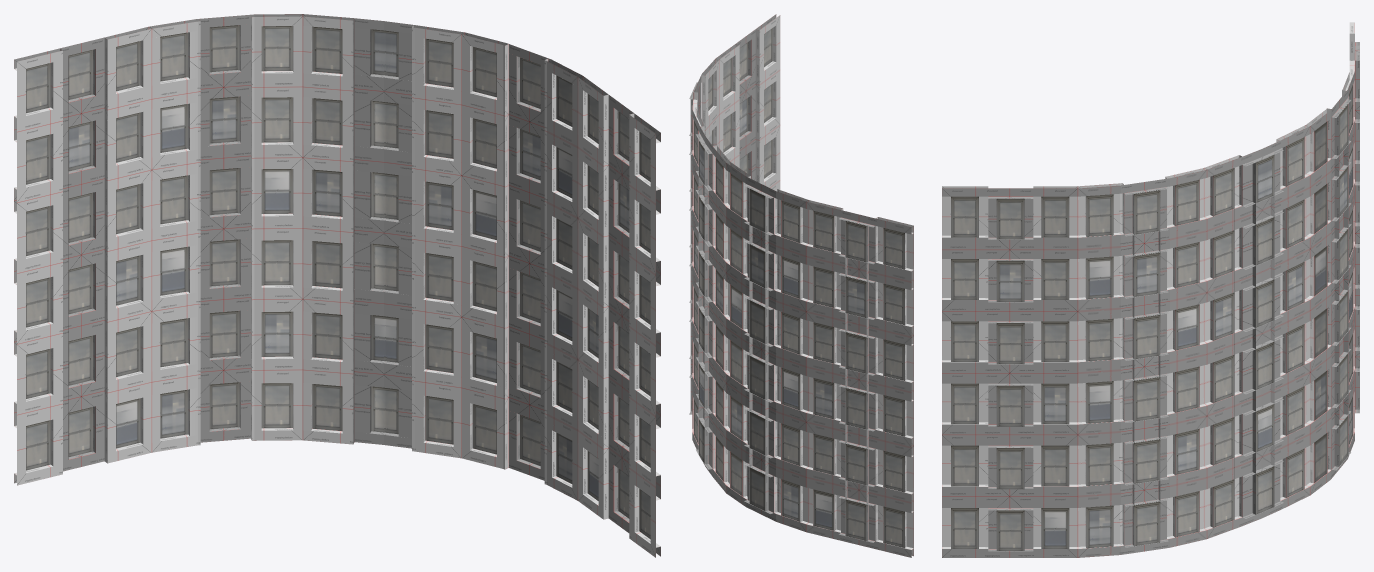
The model's file is M_02_3x_e_round.FBX.
The picture shows the model from 3 angles, left to right: view 1: azimuth 30°, elevation 25°; view 2: azimuth 150°, elevation 25°; view 3: azimuth 270°, elevation 25°; orthographic projection. The views are drawn at different scales.
Visible parts, largest first — view 1: B_01_3x_b_round; view 2: B_01_3x_b_round; view 3: B_01_3x_b_round.
Part boxes in pixels (x1=…): B_01_3x_b_round: x1=14, y1=14, x2=660, y2=557; B_01_3x_b_round: x1=689, y1=14, x2=913, y2=557; B_01_3x_b_round: x1=942, y1=22, x2=1359, y2=557.
Size of the model in its own units: 61.5 by 61.5 by 59.99.
